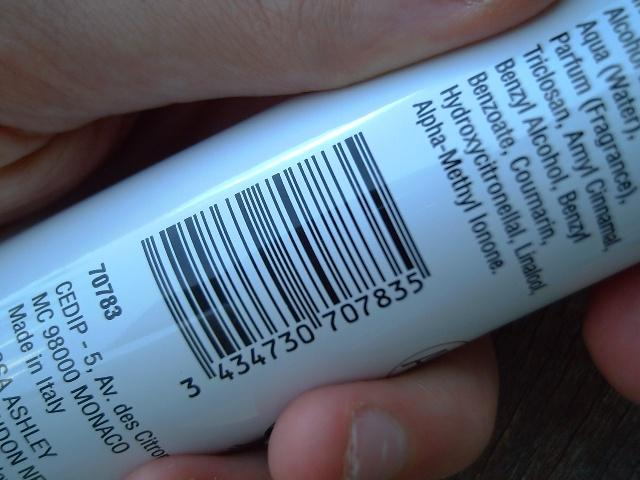Barcode: (137, 128, 431, 404)
